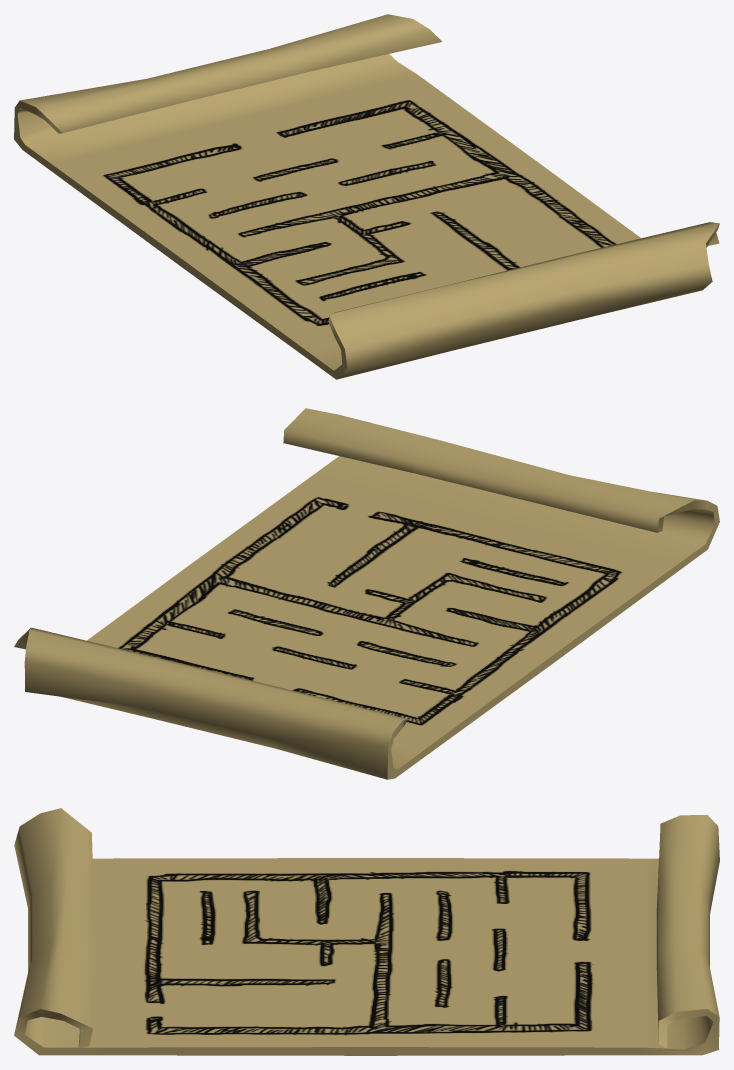
The model's file is Prop_Map_04.fbx.
3 views of the same model, one above another, from view 1: azimuth 30°, elevation 25°; view 2: azimuth 150°, elevation 25°; view 3: azimuth 270°, elevation 25° (orthographic). The views are drawn at different scales.
Visible parts, largest first — view 1: Prop_Map_04; view 2: Prop_Map_04; view 3: Prop_Map_04.
Boxes of the visible parts, bbox=[...] form: Prop_Map_04: bbox=[14, 14, 719, 379]; Prop_Map_04: bbox=[14, 408, 719, 779]; Prop_Map_04: bbox=[14, 808, 719, 1055].
Bounding box in the file's own units: 75.04 × 10.16 × 108.
Materials: 1 (1 with a texture image).
